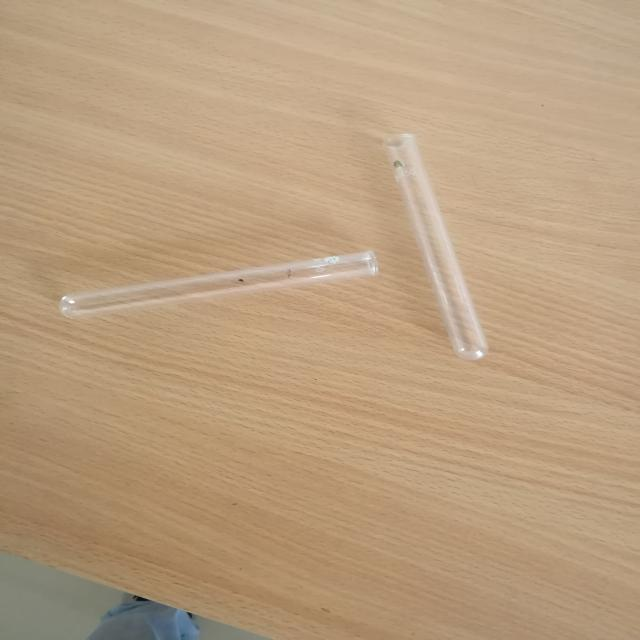Test_Tube: (366, 105, 538, 380), (31, 242, 390, 358)
